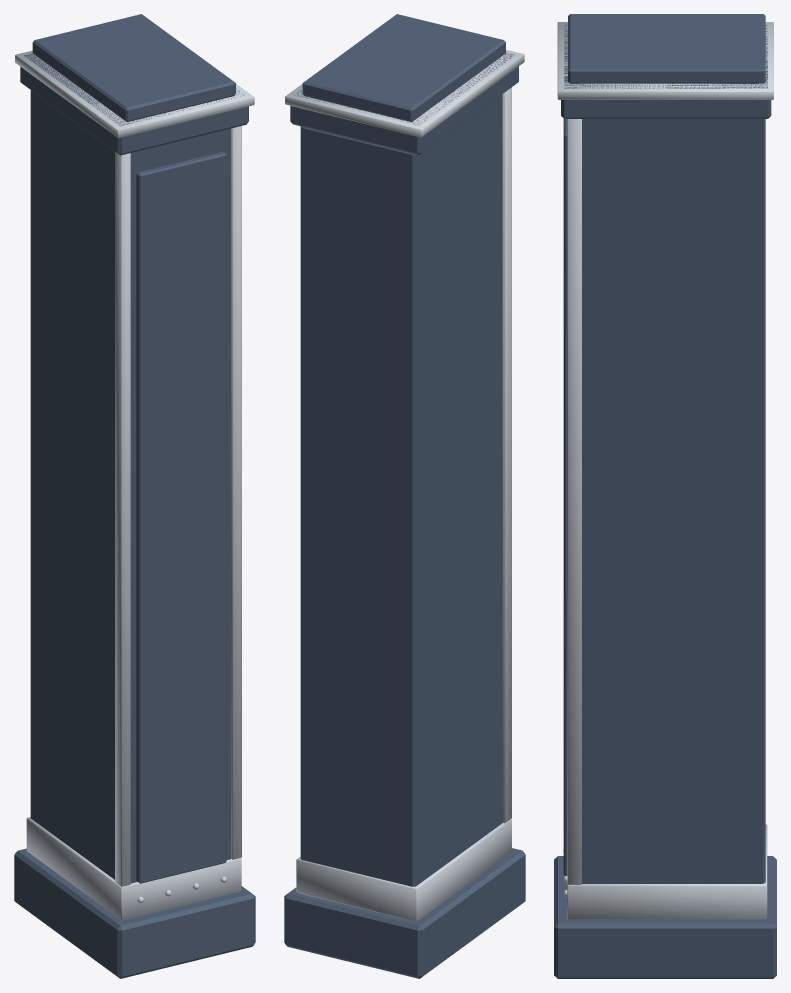
The model's file is Rempart_P1_Pilier.fbx.
3 views of the same model, side by side, from view 1: azimuth 30°, elevation 25°; view 2: azimuth 150°, elevation 25°; view 3: azimuth 270°, elevation 25° (orthographic). The views are drawn at different scales.
Parts seen in each view (by area): view 1: P1_Pilier_Pierre, P1_Pilier_Argent; view 2: P1_Pilier_Pierre, P1_Pilier_Argent; view 3: P1_Pilier_Pierre, P1_Pilier_Argent.
Part boxes in pixels (left/top/right/bottom): P1_Pilier_Pierre: left=14, top=14, right=255, bottom=978; P1_Pilier_Argent: left=15, top=50, right=254, bottom=920; P1_Pilier_Pierre: left=284, top=14, right=525, bottom=978; P1_Pilier_Argent: left=285, top=49, right=524, bottom=921; P1_Pilier_Pierre: left=554, top=14, right=776, bottom=978; P1_Pilier_Argent: left=557, top=22, right=773, bottom=919.
Bounding box in the file's own units: 6 × 35.8 × 8.
